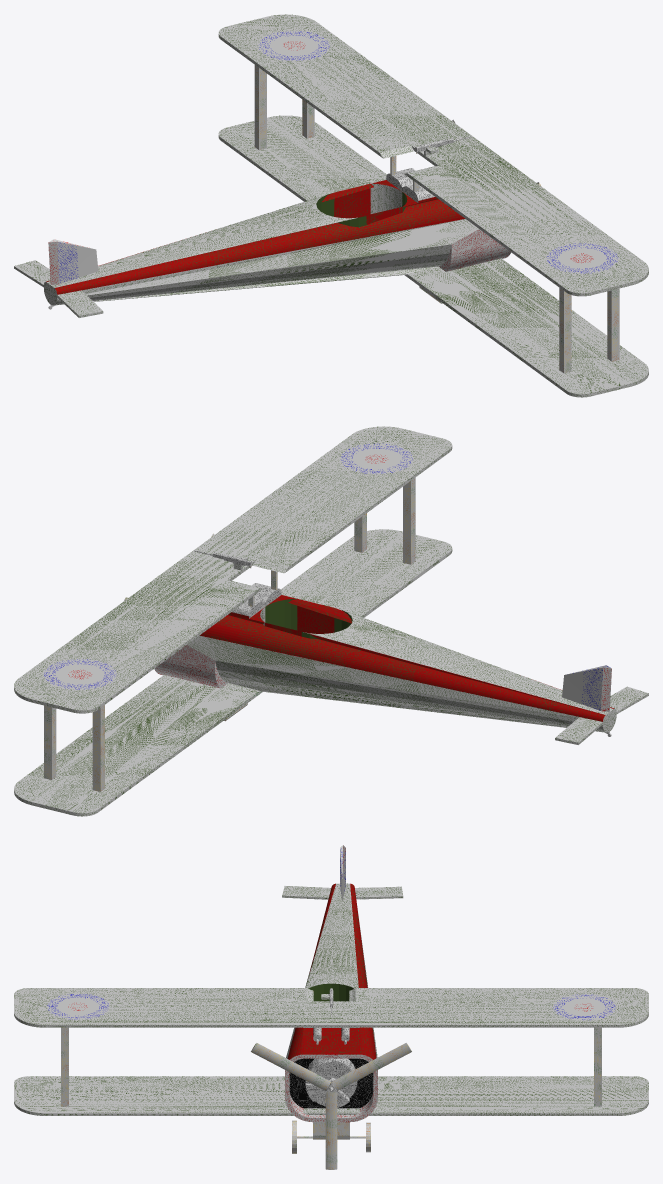
3 renders of one model, top to bottom at view 1: azimuth 30°, elevation 25°; view 2: azimuth 150°, elevation 25°; view 3: azimuth 270°, elevation 25°, orthographic. The views are drawn at different scales.
Parts seen in each view (by area): view 1: mesh1.001_mesh1-geometry; view 2: mesh1.001_mesh1-geometry; view 3: mesh1.001_mesh1-geometry, mesh2.001_mesh2-geometry.
Part boxes in pixels (bbox=[...]): mesh1.001_mesh1-geometry: bbox=[14, 14, 648, 397]; mesh1.001_mesh1-geometry: bbox=[14, 426, 648, 816]; mesh1.001_mesh1-geometry: bbox=[14, 845, 648, 1153]; mesh2.001_mesh2-geometry: bbox=[251, 1043, 411, 1169].
Size of the model in its own units: 0.5709 by 0.2036 by 0.7954.
